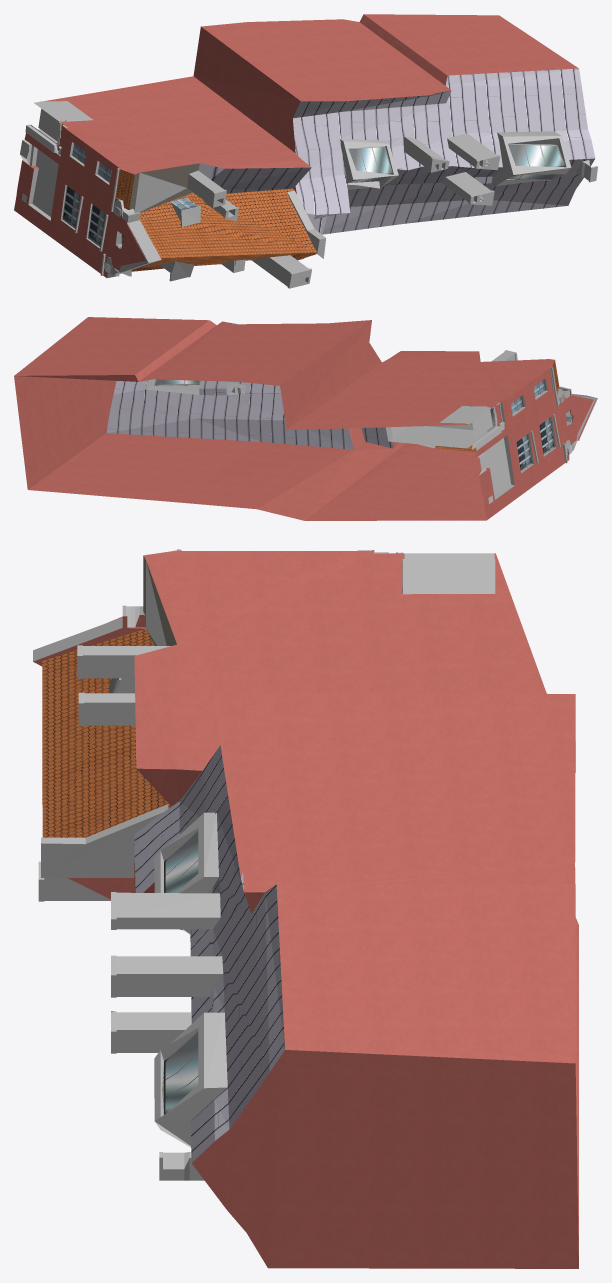
Rendered from Raekoja_plats_15-origo.obj.
The picture shows the model from 3 angles, top to bottom: view 1: azimuth 30°, elevation 25°; view 2: azimuth 150°, elevation 25°; view 3: azimuth 270°, elevation 25°; orthographic projection. The views are drawn at different scales.
Visible parts, largest first — view 1: Raekoja_plats_15; view 2: Raekoja_plats_15; view 3: Raekoja_plats_15.
Boxes of the visible parts, x1,y1,x2,y2 form: Raekoja_plats_15: (14, 14, 597, 288); Raekoja_plats_15: (14, 317, 597, 520); Raekoja_plats_15: (33, 549, 578, 1268).
Bounding box in the file's own units: 38.94 × 13.5 × 20.28.
